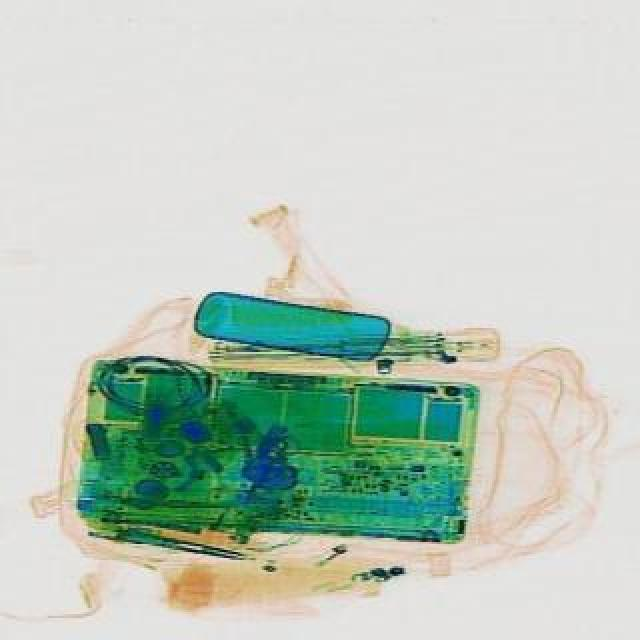knife: (94, 520, 244, 564)
